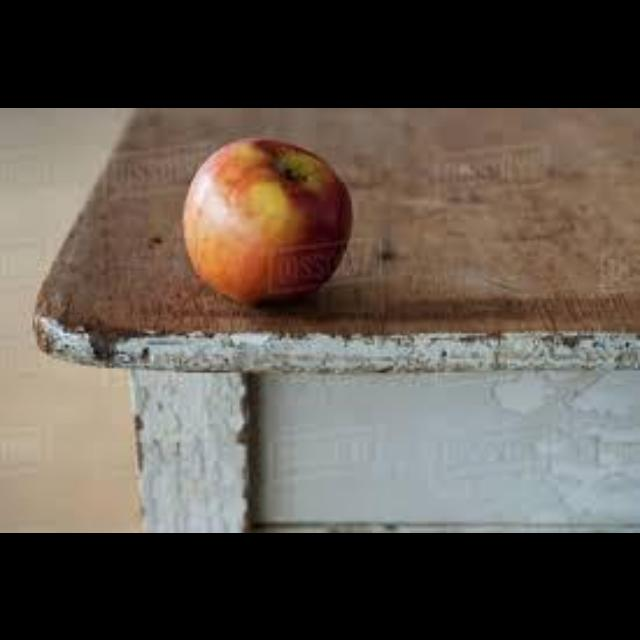apple: (184, 137, 351, 302)
